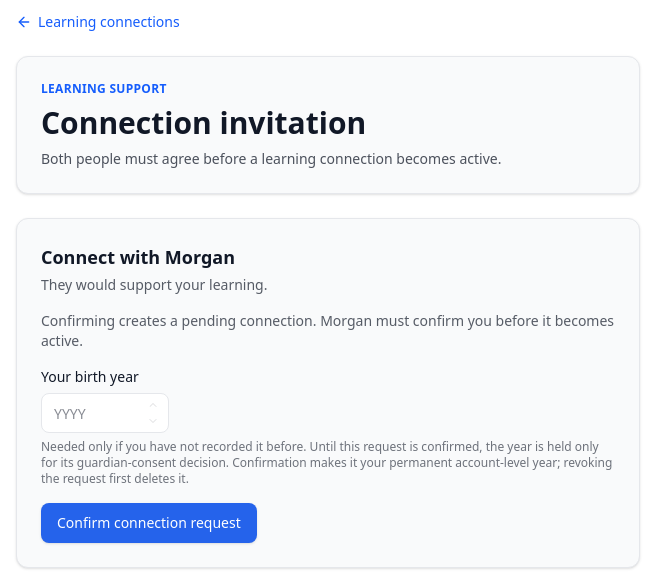
Test: redeems into pending and collects the learner birth year
The image size is (657, 586).
Expected: the heading "Connect with Morgan" is shown, [41,245,235,269]
Step 1. Type "2012" into the field labelled "Your birth year" → point(105, 413), box [41,393,169,433]
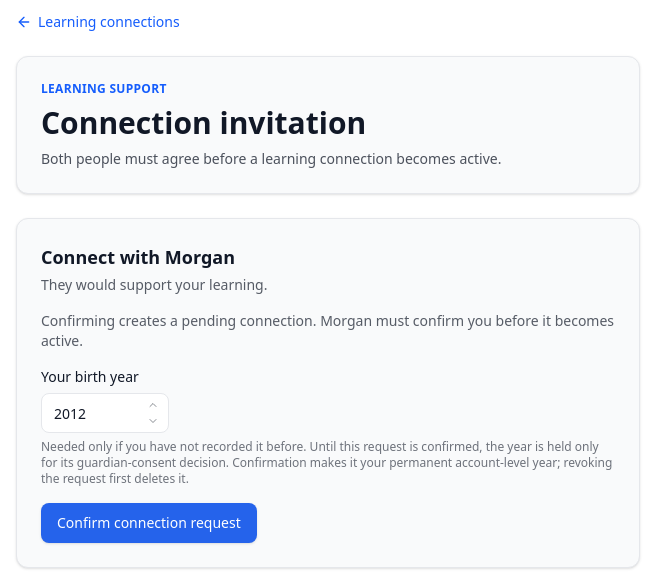
Step 2. Click the button "Confirm connection request" → point(149, 523), box [41,503,257,543]
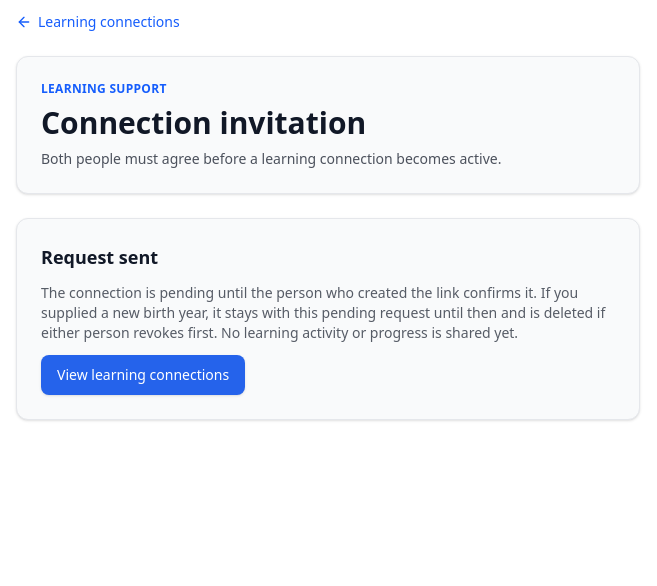
Expected: the heading "Request sent" is shown, [41,245,158,269]
Expected: the text "deleted if either person revokes first" is shown, [41,283,605,342]
